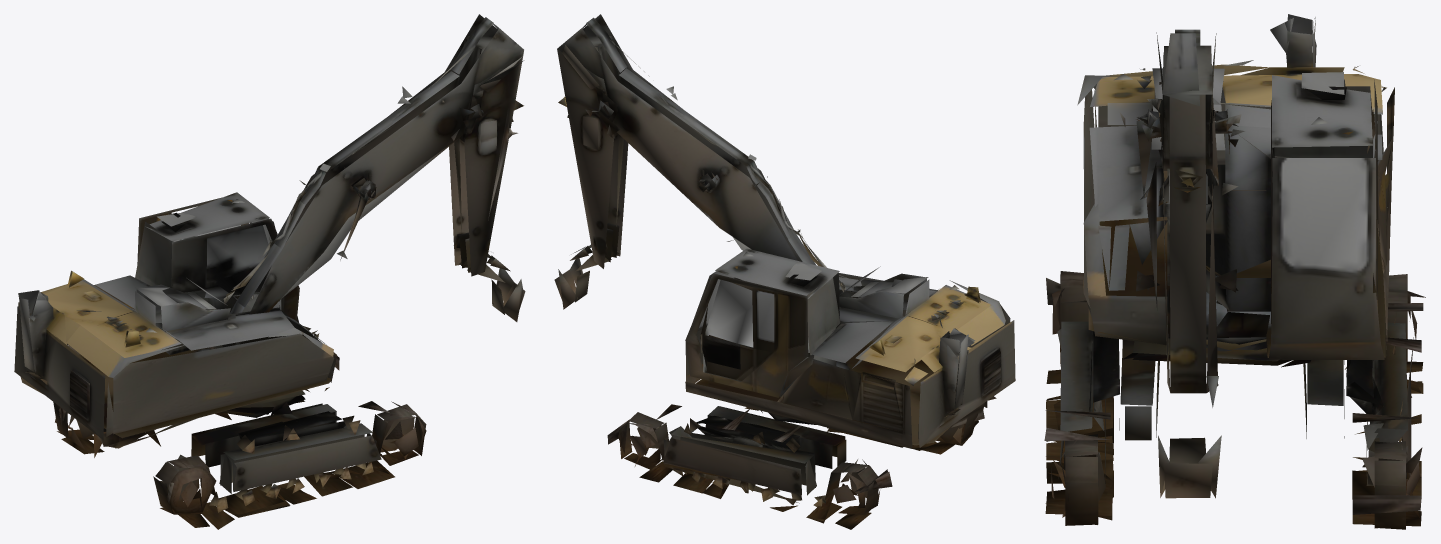
File: ch5_meridian_excavation_drill_LOD3.glb
3 renders of one model, left to right at view 1: azimuth 30°, elevation 25°; view 2: azimuth 150°, elevation 25°; view 3: azimuth 270°, elevation 25°, orthographic. The views are drawn at different scales.
Visible parts, largest first — view 1: tripo_node_13f6a4f9-93a8-4128-ba44-0d37c125c6b2; view 2: tripo_node_13f6a4f9-93a8-4128-ba44-0d37c125c6b2; view 3: tripo_node_13f6a4f9-93a8-4128-ba44-0d37c125c6b2.
Part boxes in pixels (left/top/right/bottom): tripo_node_13f6a4f9-93a8-4128-ba44-0d37c125c6b2: left=14, top=14, right=525, bottom=529; tripo_node_13f6a4f9-93a8-4128-ba44-0d37c125c6b2: left=554, top=14, right=1015, bottom=529; tripo_node_13f6a4f9-93a8-4128-ba44-0d37c125c6b2: left=1044, top=14, right=1425, bottom=529.
Size of the model in its own units: 1 by 0.8331 by 0.4755.
Materials: 1 (1 with a texture image).
